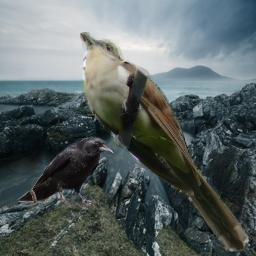Crow: (15, 136, 114, 211)
Cuckoo: (80, 32, 249, 252)
